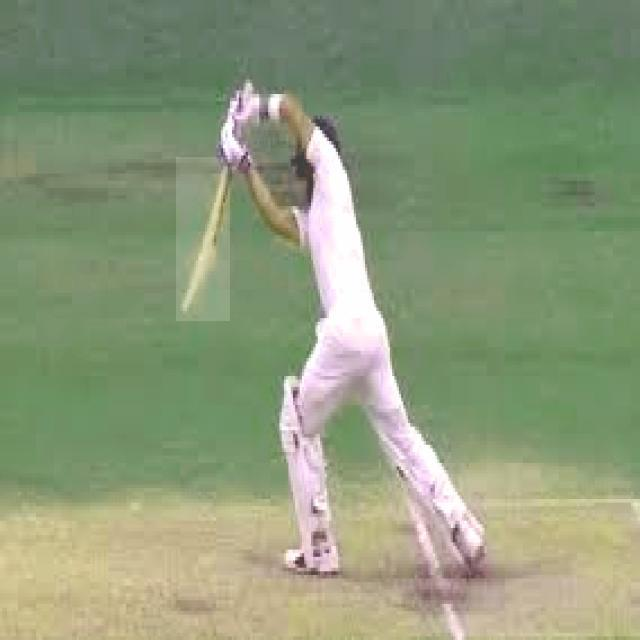bat: (175, 156, 227, 321)
toe: (165, 304, 199, 322)
